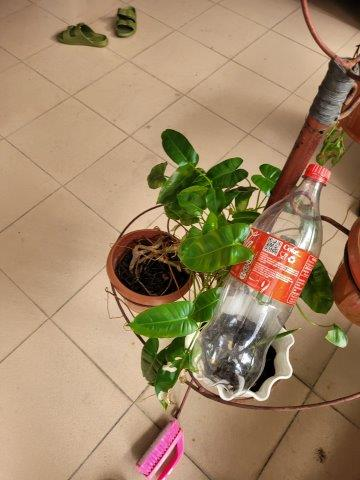botolplastik: (200, 163, 324, 393)
